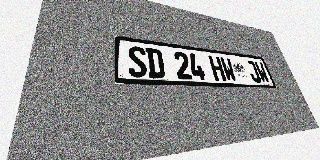2: (173, 51, 193, 80)
4: (187, 53, 206, 80)
D: (145, 48, 166, 78)
H: (208, 55, 227, 81)
J: (245, 60, 262, 83)
S: (127, 45, 148, 78)
W: (219, 57, 238, 82), (254, 61, 270, 83)
